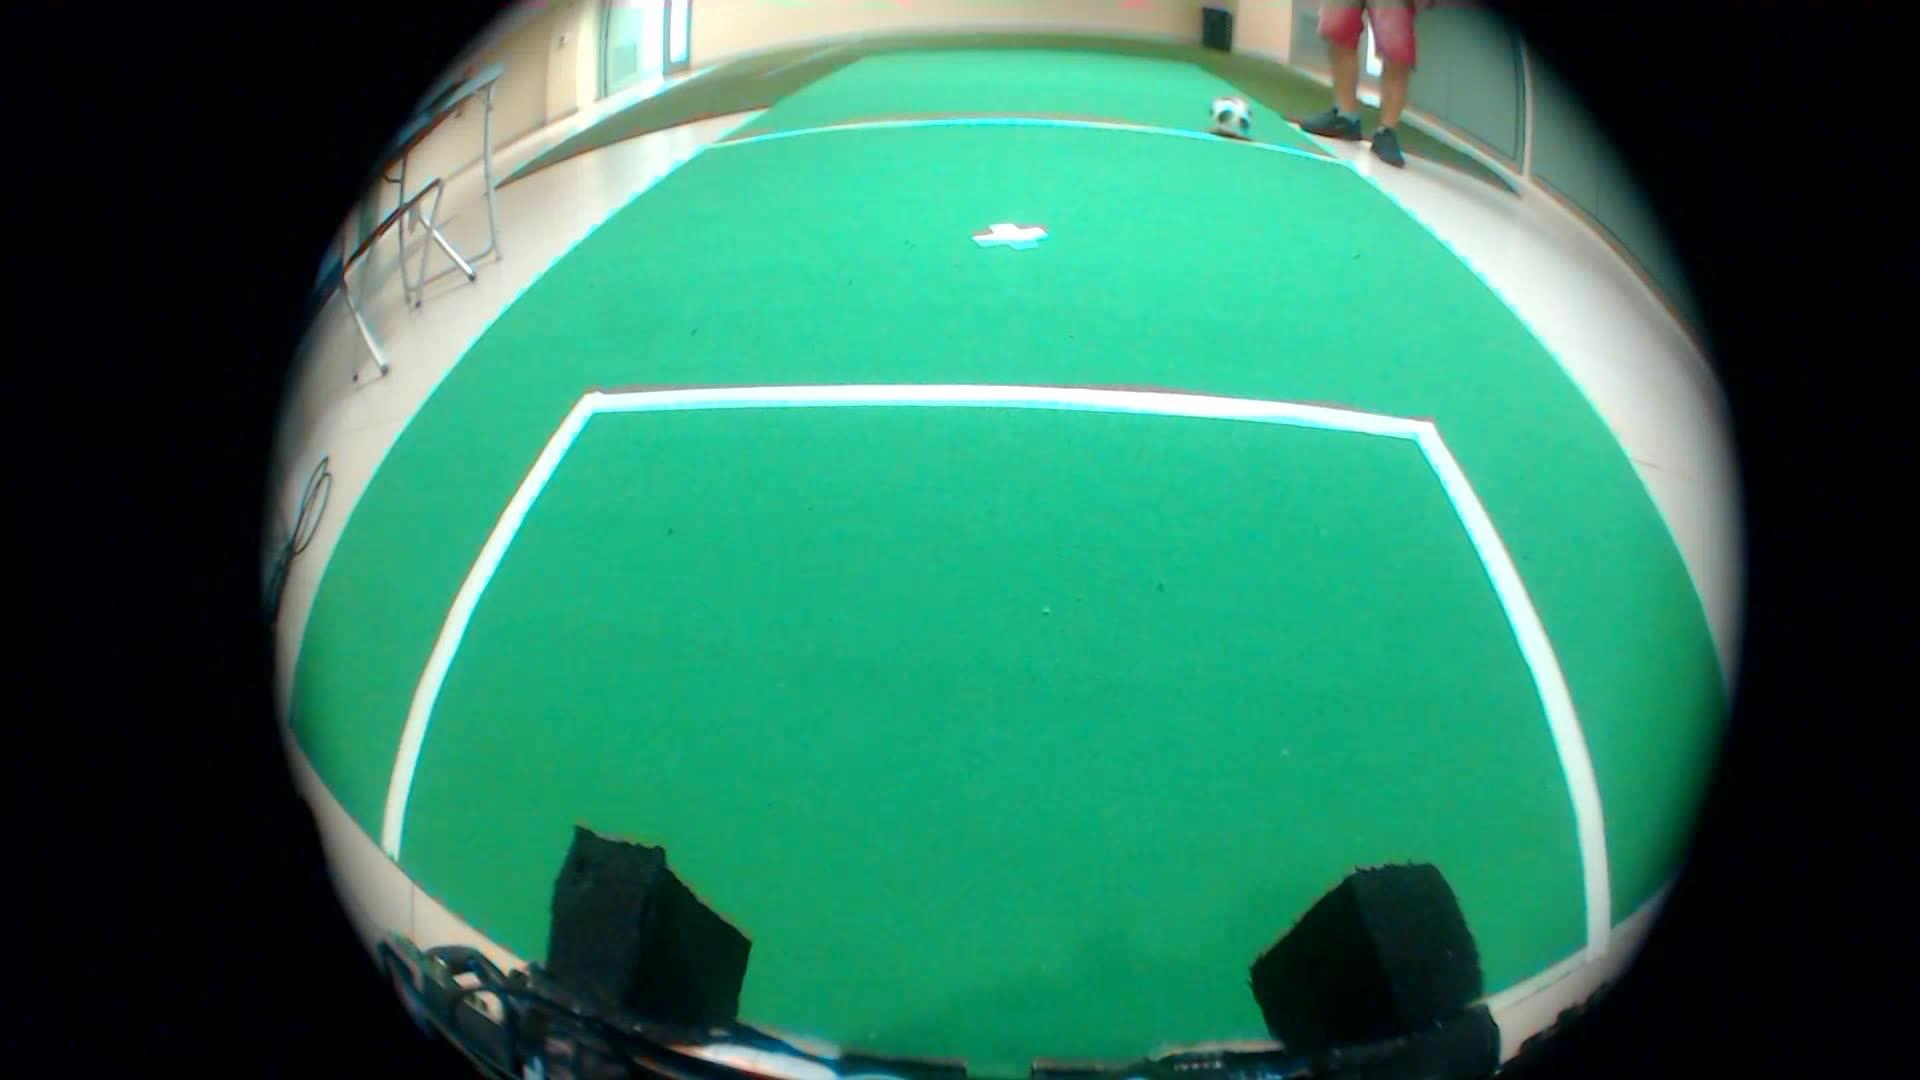ball: (1203, 87, 1255, 145)
